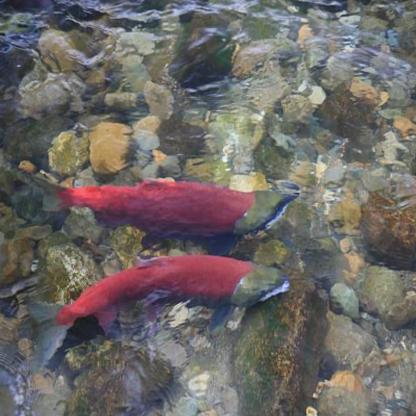sockeye: (34, 251, 283, 341), (32, 157, 305, 239)
